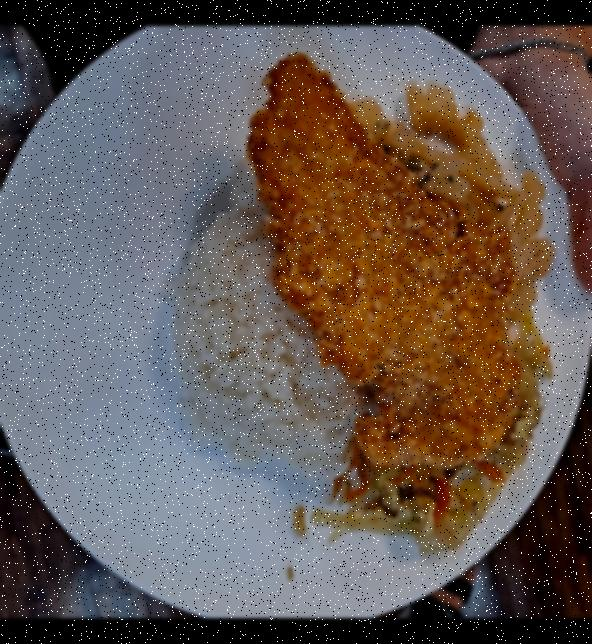chicken steak: (248, 58, 522, 478)
plate: (0, 26, 592, 612)
side dish: (328, 341, 554, 572), (367, 78, 555, 330)
white rice: (166, 191, 388, 474)
